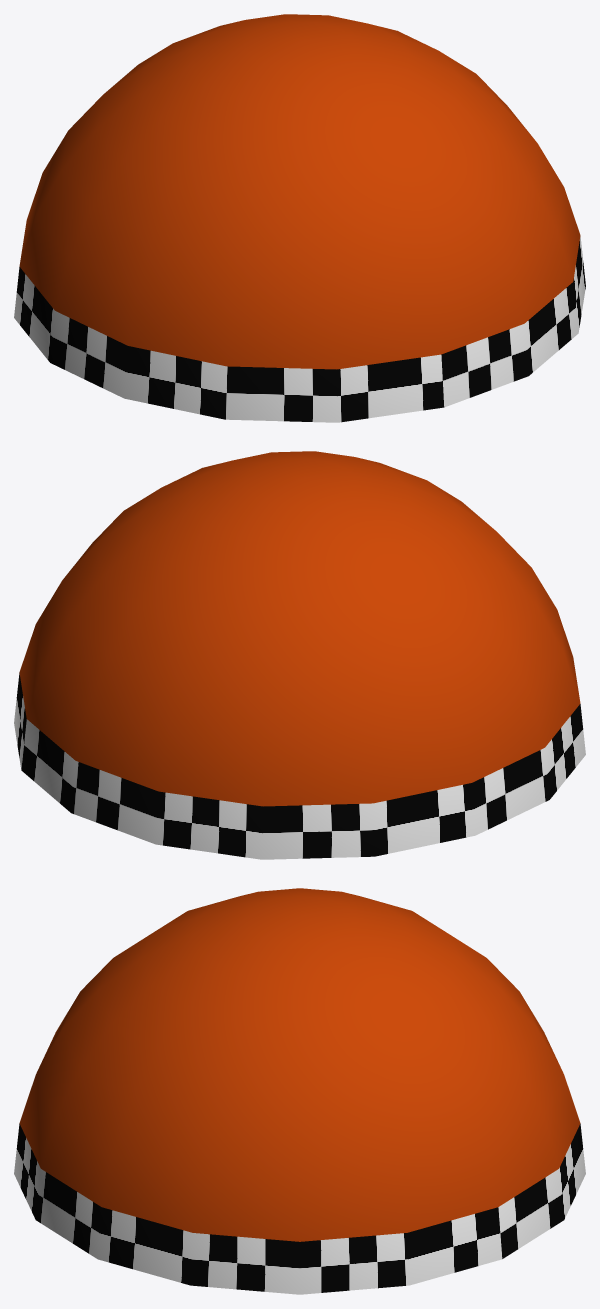
Rendered from Check_Point-3.FBX.
3 views of the same model, one above another, from view 1: azimuth 30°, elevation 25°; view 2: azimuth 150°, elevation 25°; view 3: azimuth 270°, elevation 25° (orthographic).
Visible parts, largest first — view 1: Checkpoint; view 2: Checkpoint; view 3: Checkpoint.
Boxes of the visible parts, x1=… form: Checkpoint: x1=14, y1=14, x2=585, y2=422; Checkpoint: x1=14, y1=451, x2=585, y2=859; Checkpoint: x1=14, y1=888, x2=585, y2=1294.
Size of the model in its own units: 153 by 76.73 by 153.
2 materials, 1 textured.
